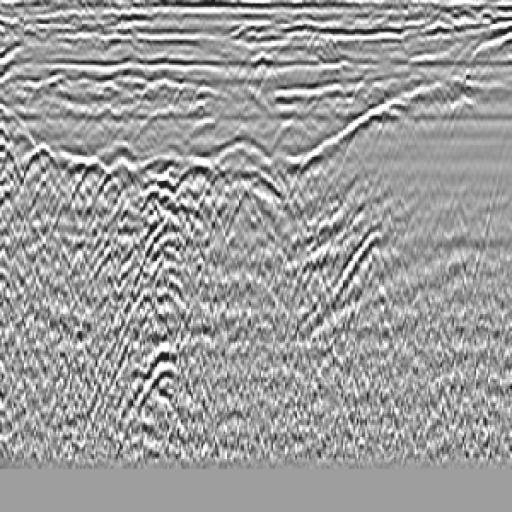metalic: (199, 125, 320, 276)
